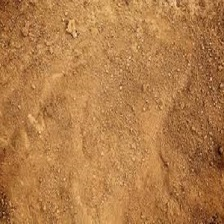sandy_soil: (14, 13, 211, 200)
